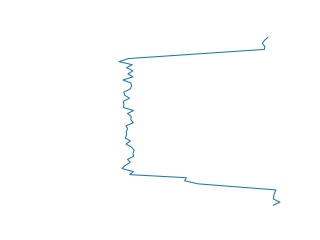distributaryChannelFill: (113, 35, 285, 207)
